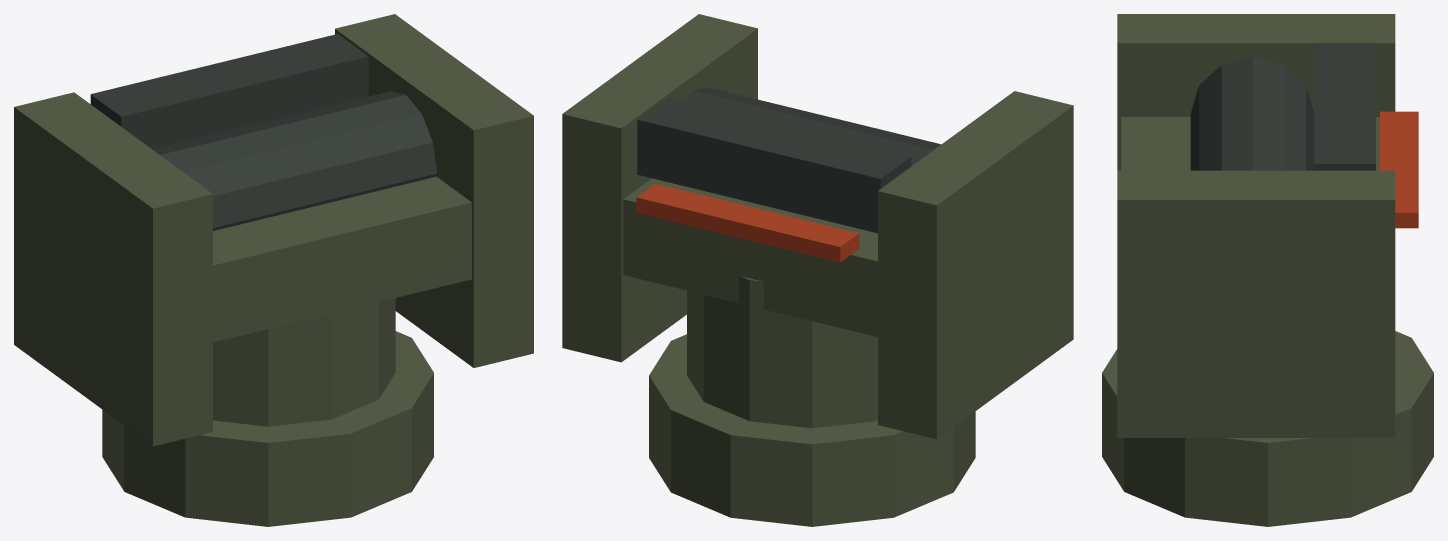
The model's file is Bastion_HT77_MissileBase.obj.
3 renders of one model, left to right at view 1: azimuth 30°, elevation 25°; view 2: azimuth 150°, elevation 25°; view 3: azimuth 270°, elevation 25°, orthographic.
Visible parts, largest first — view 1: Bastion_HT77_MissileBase; view 2: Bastion_HT77_MissileBase; view 3: Bastion_HT77_MissileBase.
Boxes of the visible parts, <box> form: Bastion_HT77_MissileBase: <box>14,14,533,526</box>; Bastion_HT77_MissileBase: <box>562,14,1073,526</box>; Bastion_HT77_MissileBase: <box>1102,14,1433,526</box>.
Bounding box in the file's own units: 1.14 × 1.01 × 0.86.
1 material, 1 textured.
